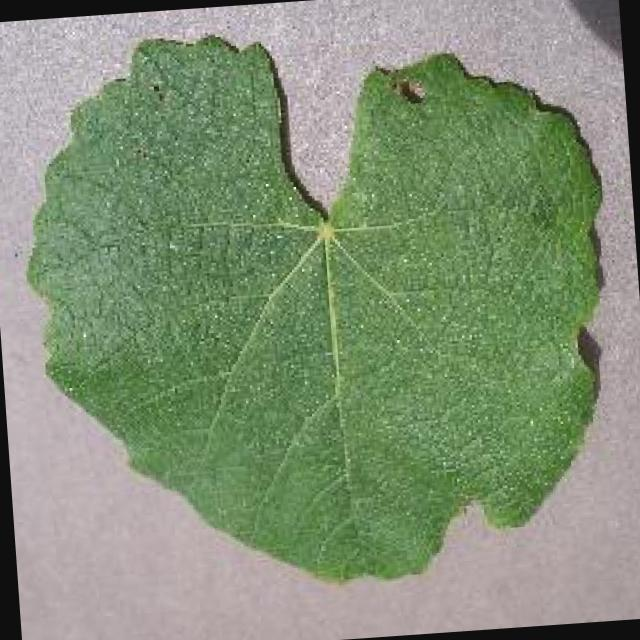healthy: (31, 39, 599, 582)
